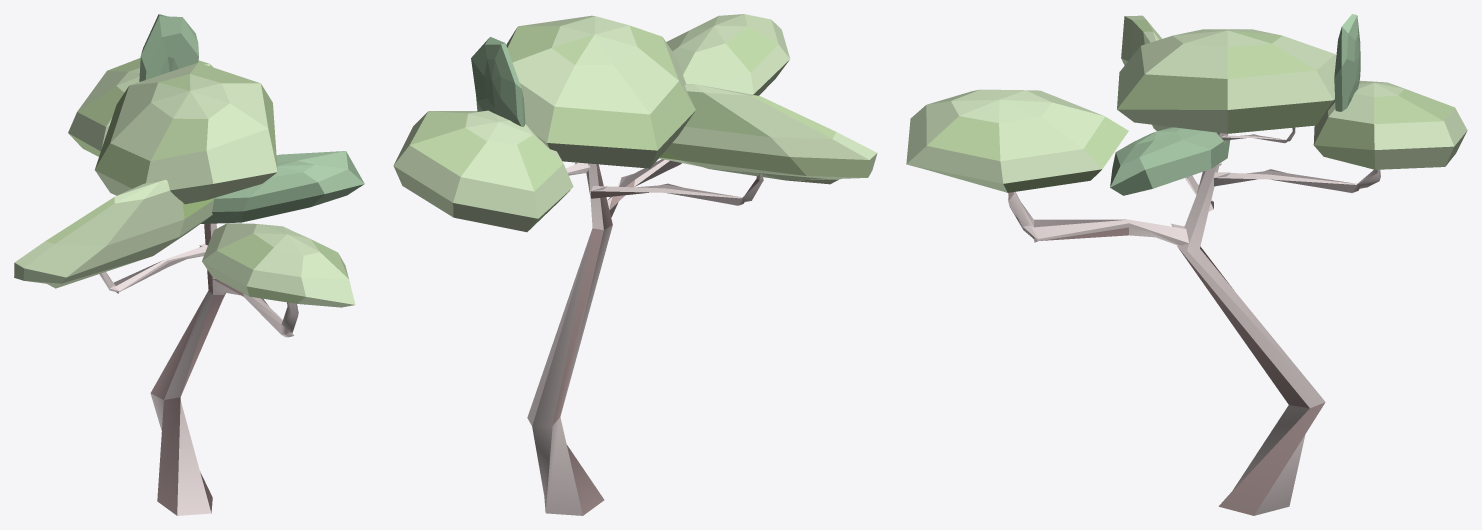
Rendered from arbol1.fbx.
3 renders of one model, left to right at view 1: azimuth 30°, elevation 25°; view 2: azimuth 150°, elevation 25°; view 3: azimuth 270°, elevation 25°, orthographic. The views are drawn at different scales.
Visible parts, largest first — view 1: pSphere13; view 2: pSphere13; view 3: pSphere13.
Boxes of the visible parts, left/top/right/bottom form: pSphere13: left=14, top=14, right=364, bottom=515; pSphere13: left=393, top=14, right=877, bottom=515; pSphere13: left=906, top=14, right=1467, bottom=515.
Size of the model in its own units: 0.0869 by 0.1118 by 0.1142.
